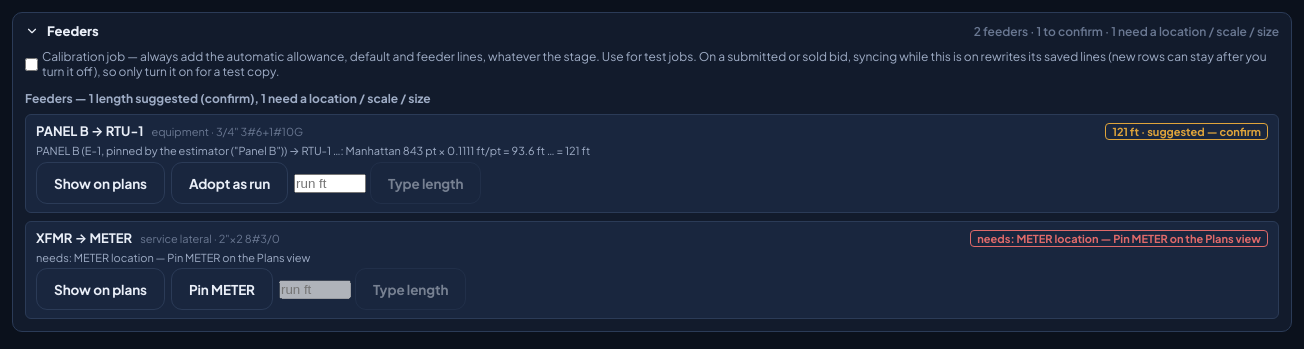
UI cleanup round 2B — Feeders card › with feeders: folding keeps Calibration visible, hides the cards without removing them, and remembers it
Click the button with test id "lp-feeders-toggle" at (73,31), box [13, 13, 1291, 49]
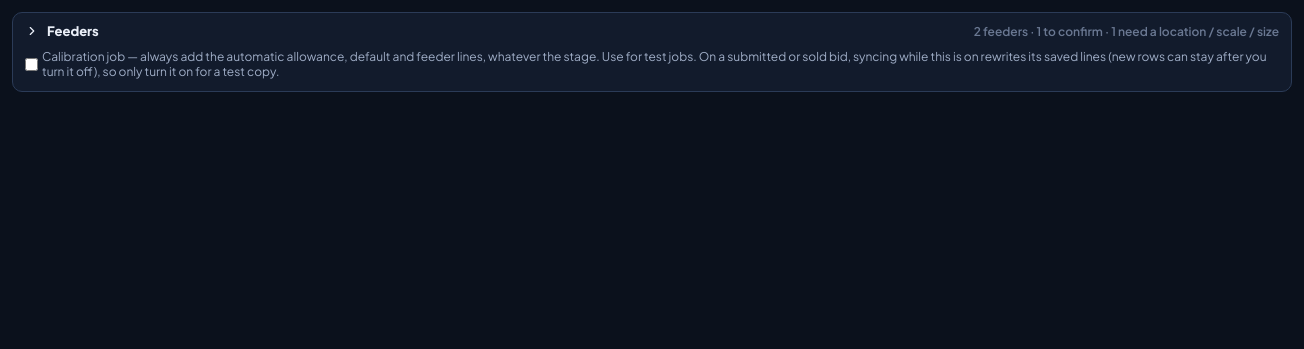
expect the button with test id "lp-feeders-toggle" is collapsed: met, box [13, 13, 1291, 49]
